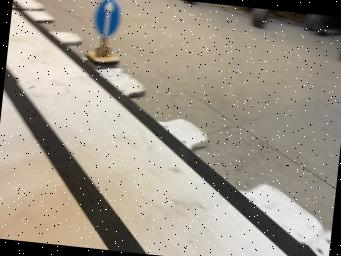forward: (83, 0, 122, 65), (83, 0, 122, 65), (83, 0, 122, 65)
